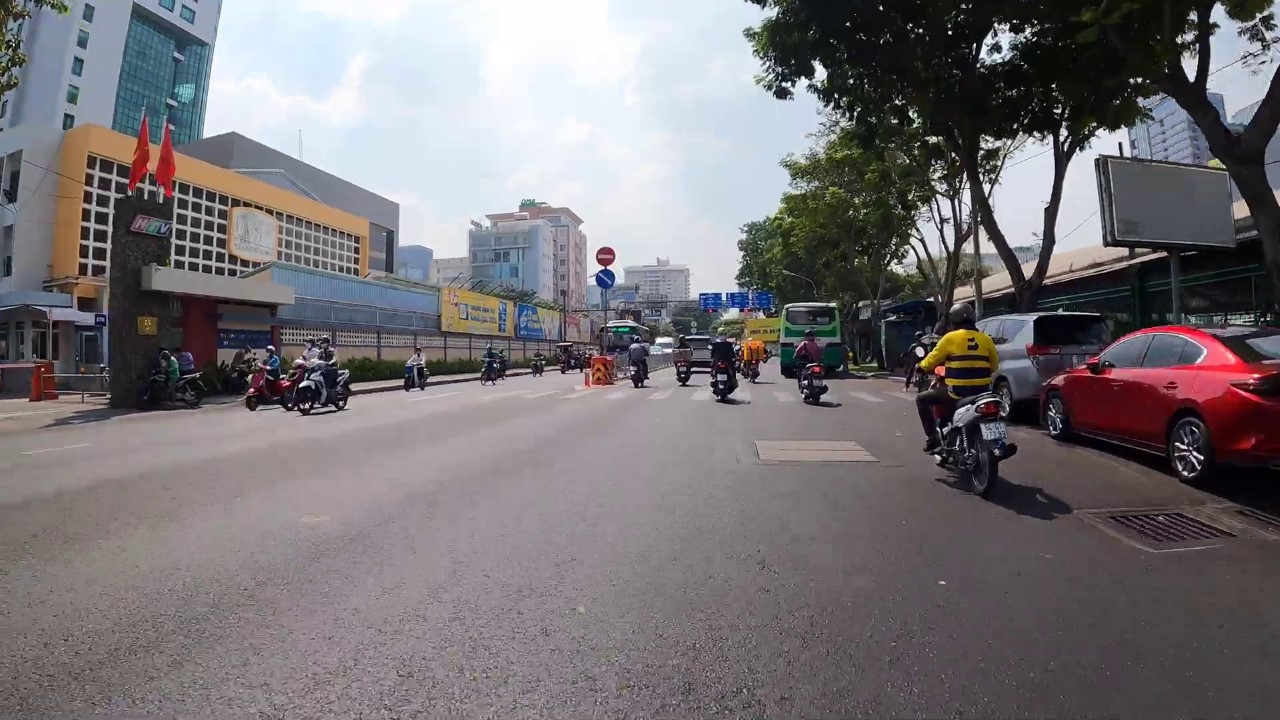cam_nguoc_chieu: (595, 246, 616, 267)
huong_phai_di_vong: (595, 268, 615, 289)
